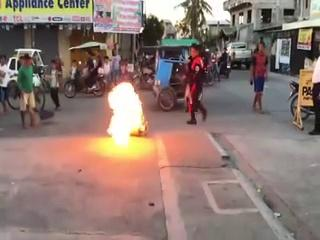Fire: (99, 81, 151, 152)
